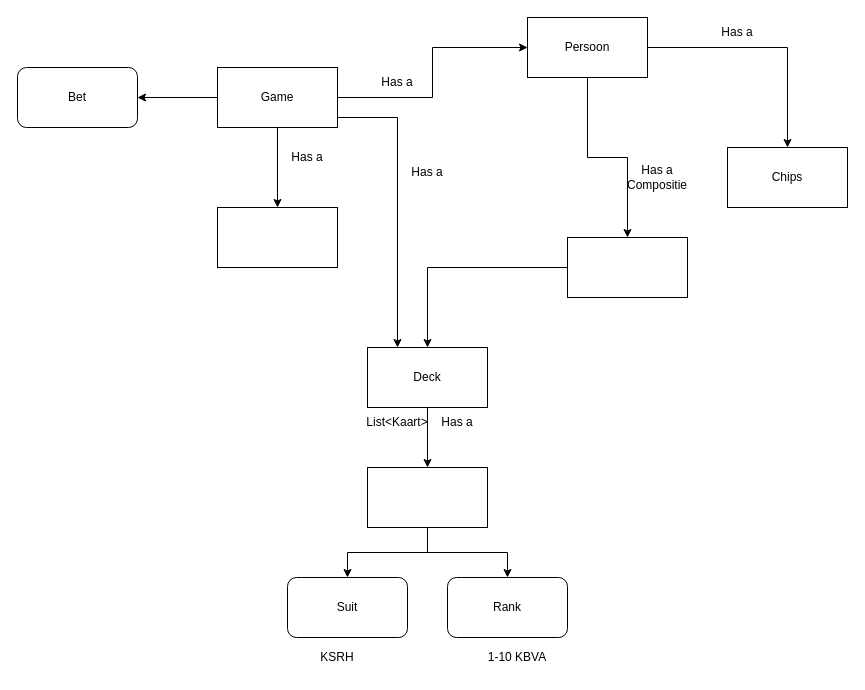
The diagram is 865 pixels wide and 690 high, and some of its shapes have lost their labels. Each missing label, with the centre of its shape:
Hand: point 627,267
Kaart: point 427,497
Regel: point 277,237
